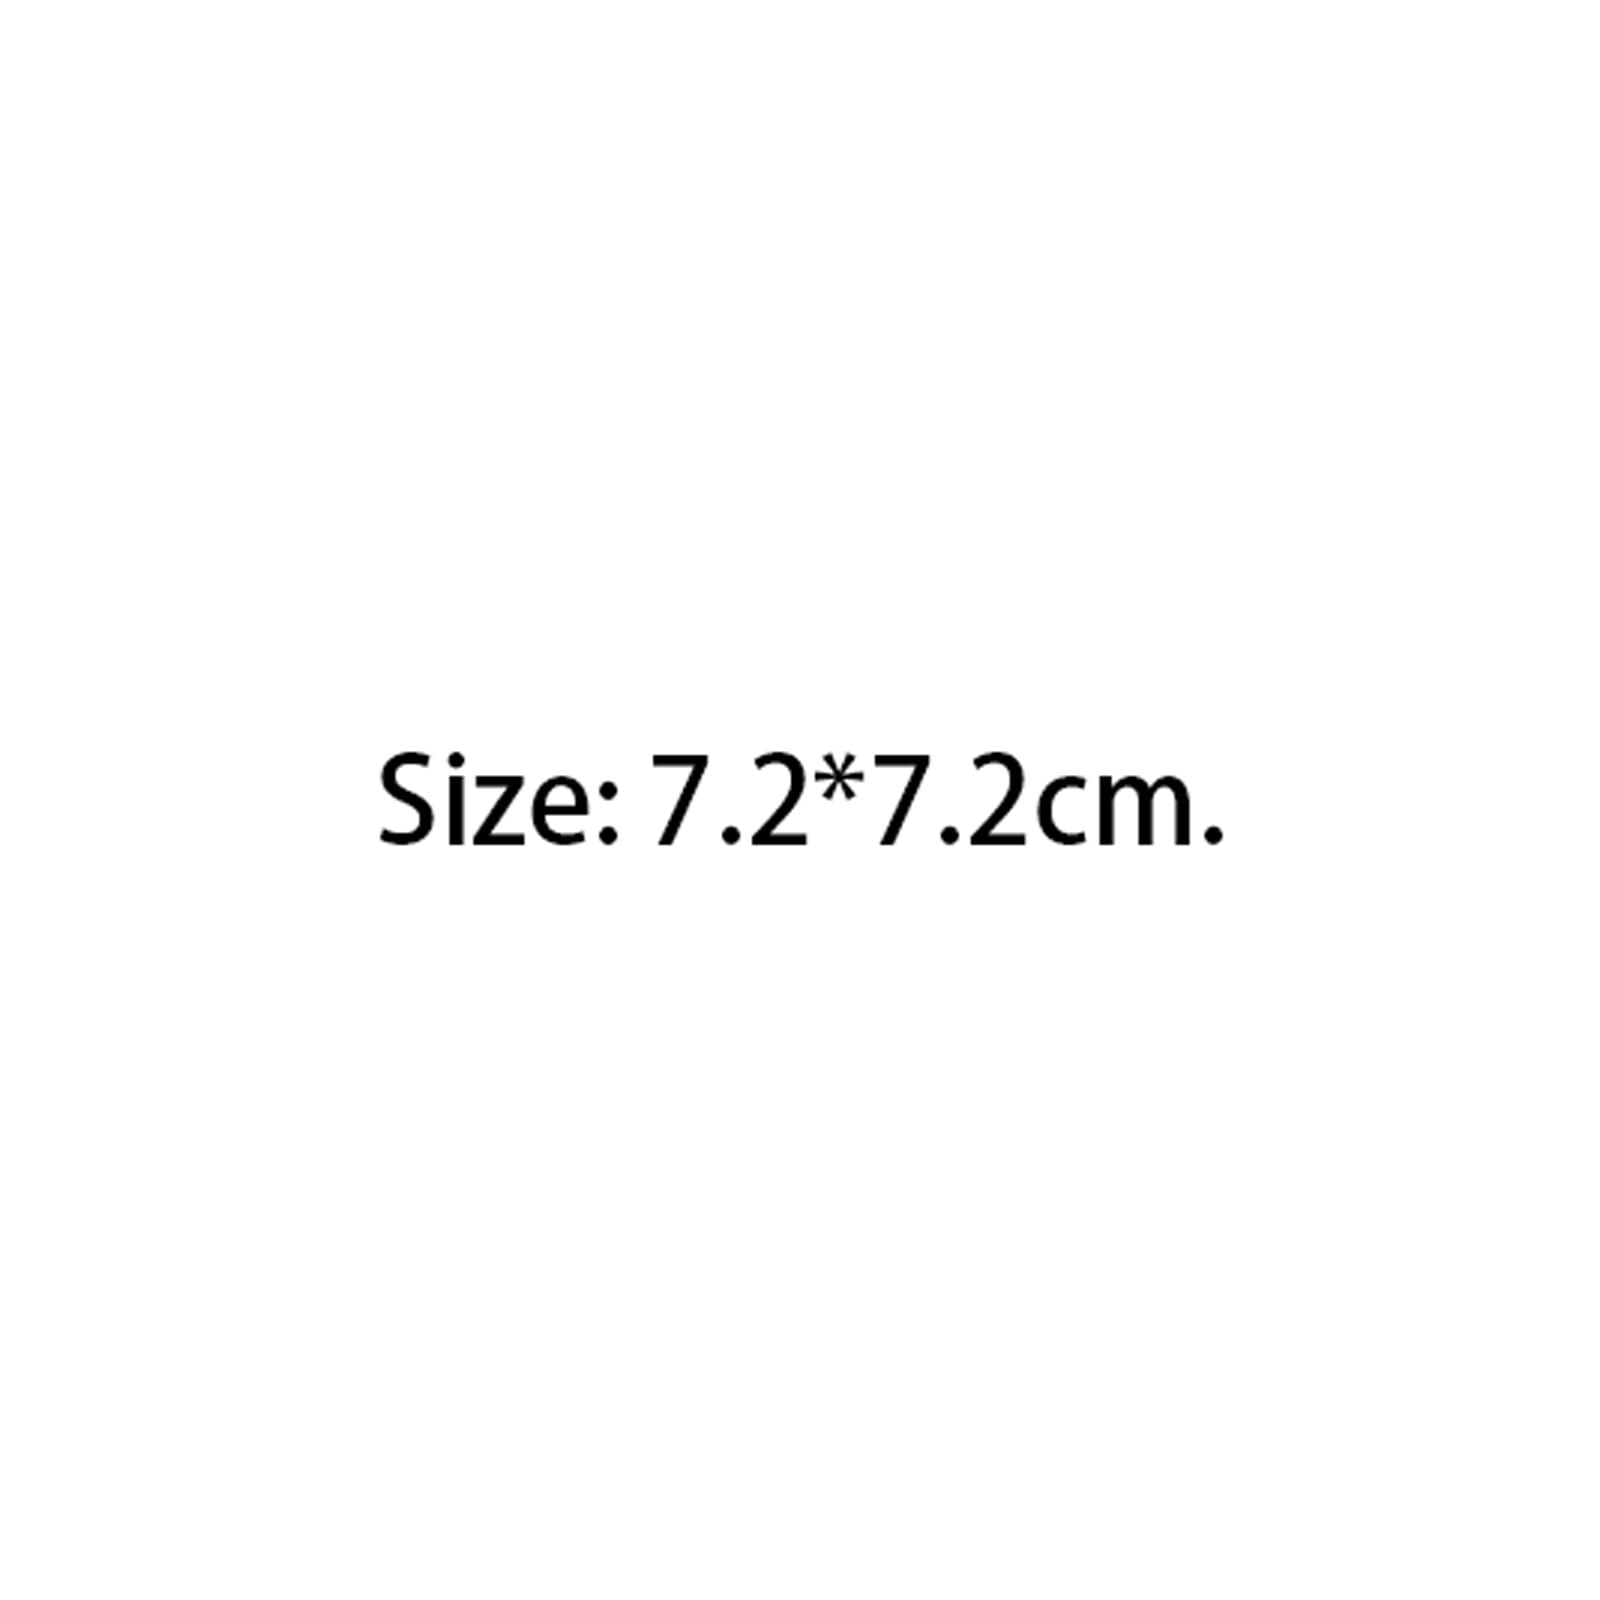Size:: (379, 752, 617, 845)
